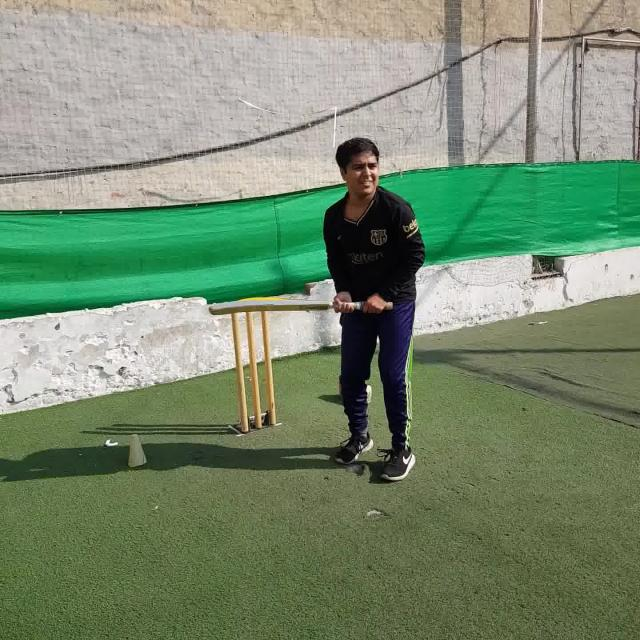bat: (208, 296, 394, 315)
